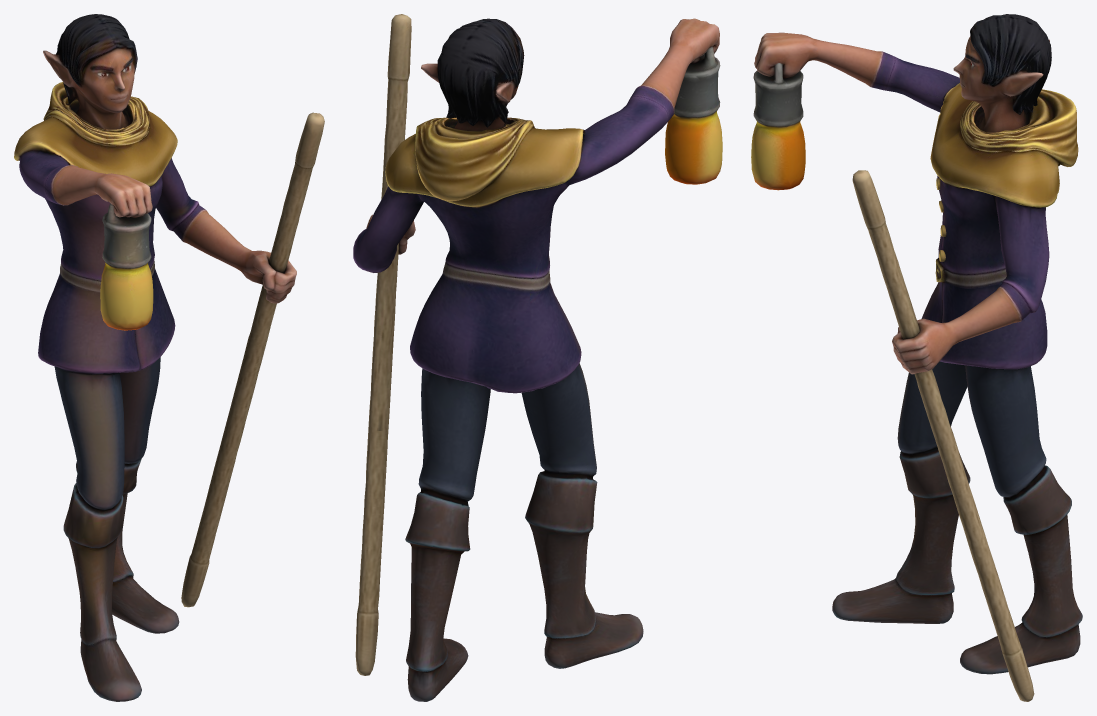
File: MZ4250 - NPC Commoner Female 02.glb
3 views of the same model, side by side, from view 1: azimuth 30°, elevation 25°; view 2: azimuth 150°, elevation 25°; view 3: azimuth 270°, elevation 25° (orthographic). The views are drawn at different scales.
Parts seen in each view (by area): view 1: body_low.001, stick_low.001, lamp_low.001; view 2: body_low.001, stick_low.001, lamp_low.001; view 3: body_low.001, stick_low.001, lamp_low.001.
Part boxes in pixels (x1=…): body_low.001: x1=14, y1=14, x2=296, y2=701; stick_low.001: x1=181, y1=112, x2=324, y2=607; lamp_low.001: x1=100, y1=203, x2=153, y2=330; body_low.001: x1=353, y1=18, x2=719, y2=701; stick_low.001: x1=355, y1=14, x2=411, y2=675; lamp_low.001: x1=665, y1=47, x2=722, y2=184; body_low.001: x1=754, y1=14, x2=1082, y2=674; stick_low.001: x1=852, y1=170, x2=1034, y2=701; lamp_low.001: x1=751, y1=63, x2=805, y2=190.
Bounding box in the file's own units: 2.92 × 6.5 × 3.07.
1 material, 1 textured.
